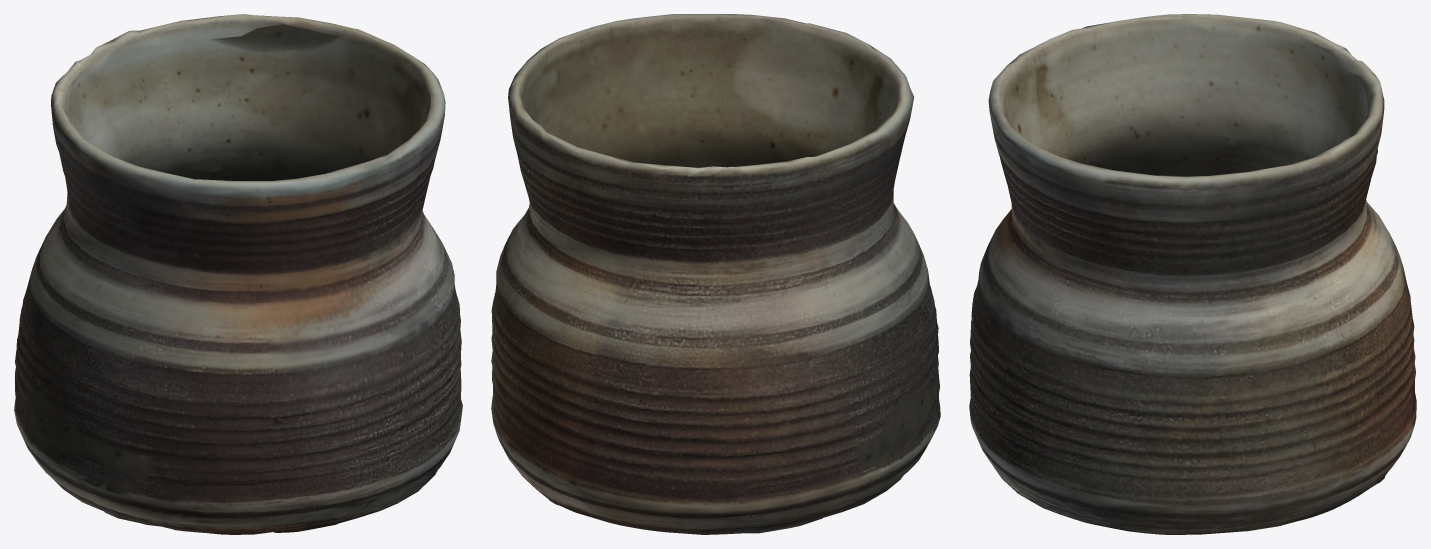
File: eddy.glb
3 views of the same model, side by side, from view 1: azimuth 30°, elevation 25°; view 2: azimuth 150°, elevation 25°; view 3: azimuth 270°, elevation 25° (orthographic).
Parts seen in each view (by area): view 1: Eddy; view 2: Eddy; view 3: Eddy.
Part boxes in pixels (left/top/right/bottom): Eddy: left=14, top=14, right=462, bottom=534; Eddy: left=491, top=14, right=940, bottom=534; Eddy: left=969, top=14, right=1416, bottom=534.
Size of the model in its own units: 2.83 by 2.48 by 2.8.
Materials: 1 (1 with a texture image).
